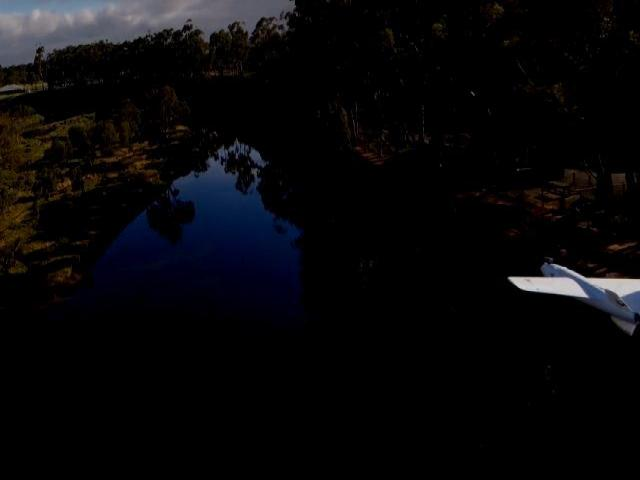iha: (502, 255, 640, 340)
